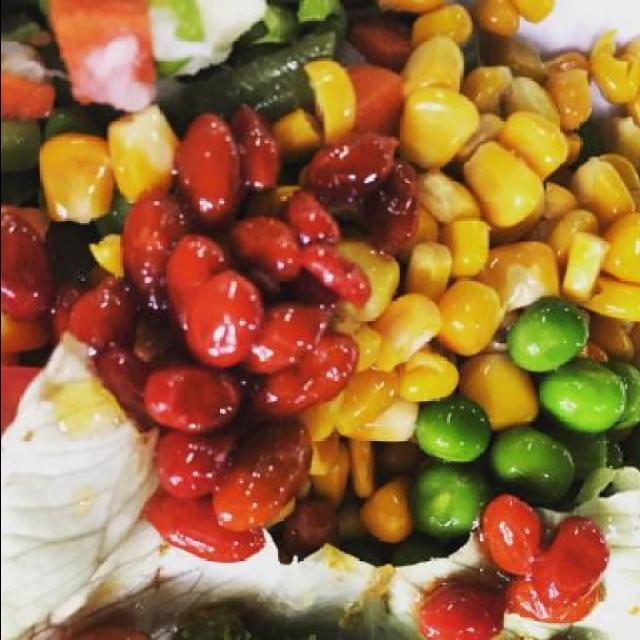Salad: (2, 0, 640, 638)
